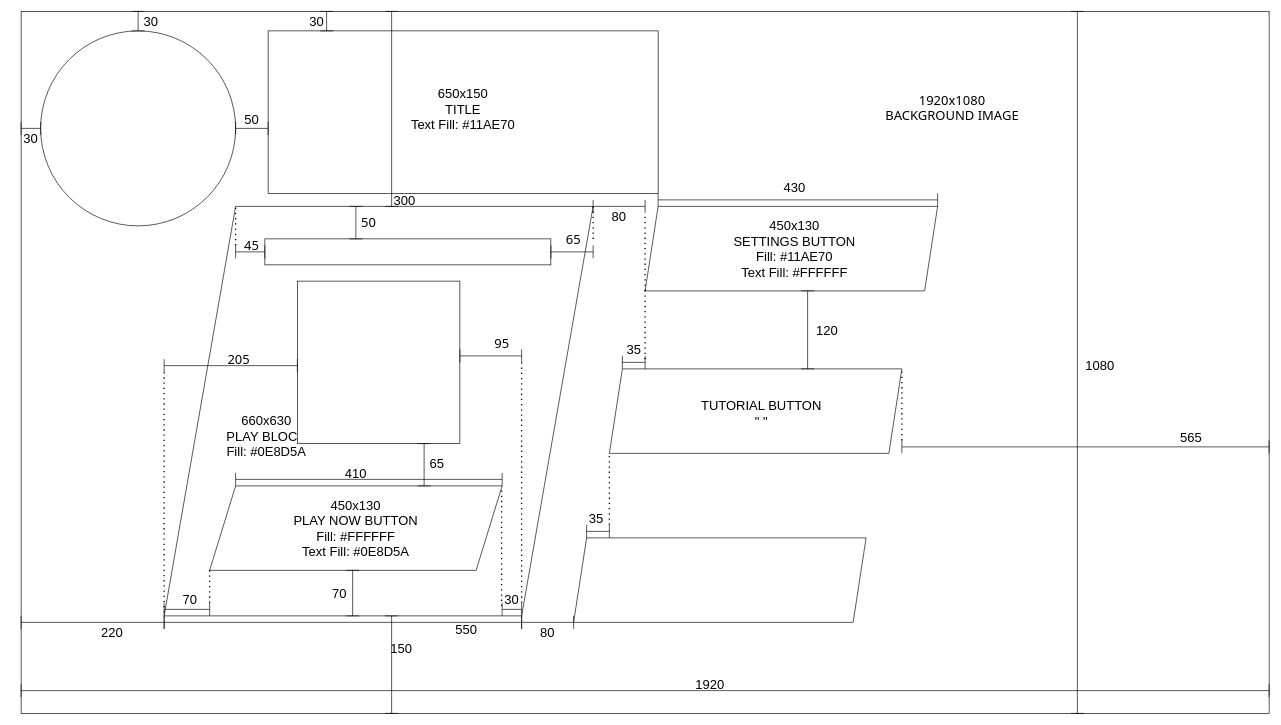
Image size: 1281x725. Some labels were removed from this diagram. Each missing label, with the box of its shape:
250x250 CHIPS IMAGE: (297, 280, 460, 444)
300x300 (LOGO) Fill : #11AE70: (40, 30, 236, 226)
440x40 - POKER LABEL - Text Fill: #FFFFFF: (264, 238, 551, 265)
QUIT BUTTON " ": (573, 537, 866, 622)
